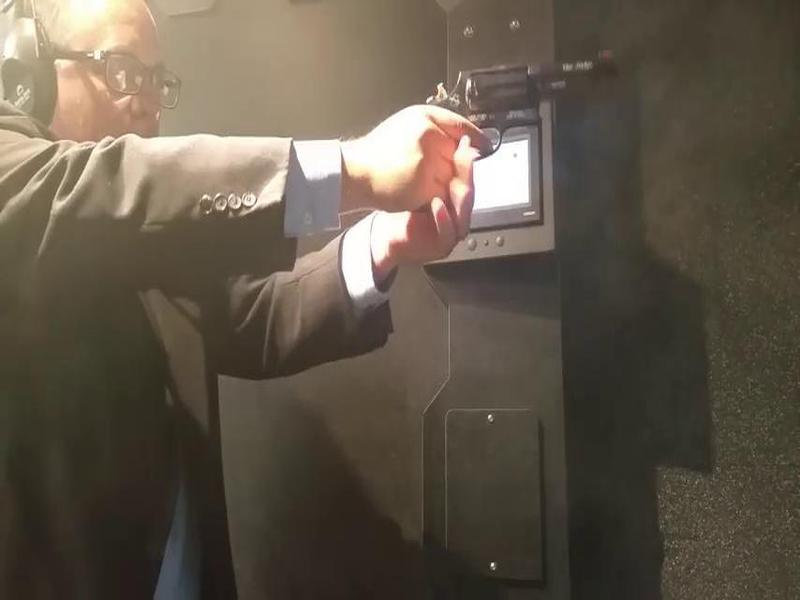Revolver: (421, 29, 611, 205)
